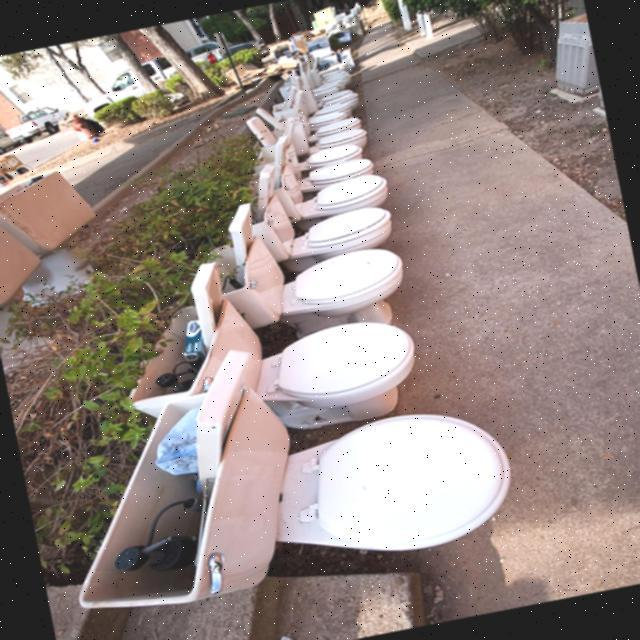fire_hydrant: (68, 110, 100, 143)
